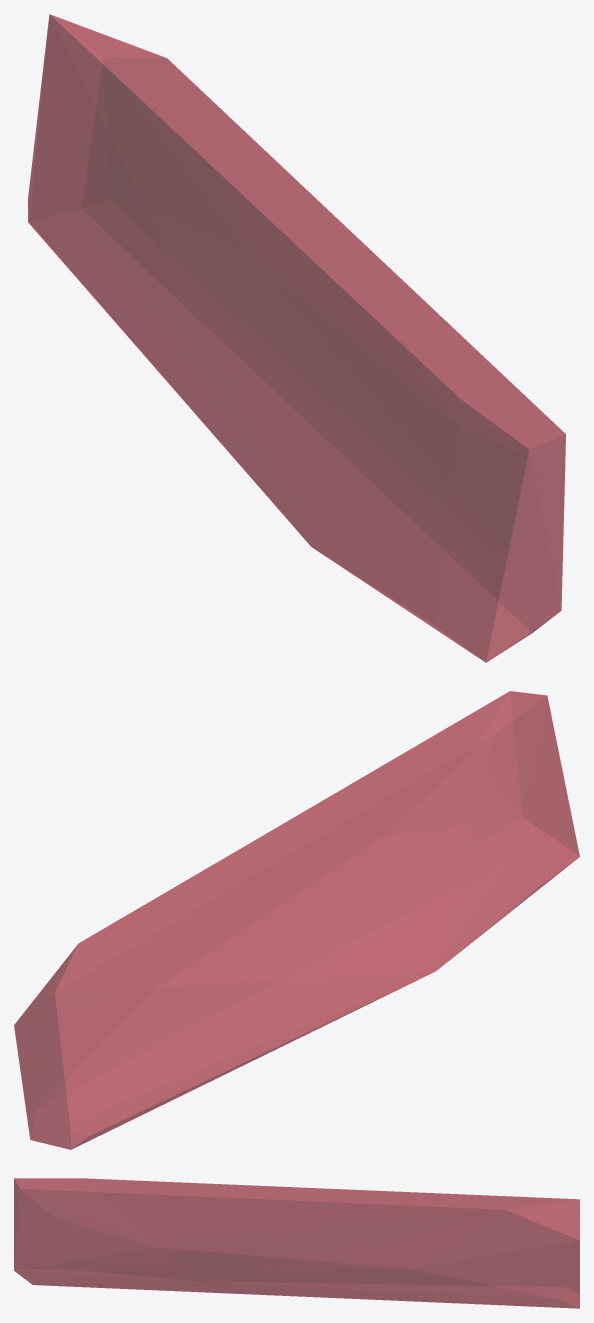
The picture shows the model from 3 angles, top to bottom: view 1: azimuth 30°, elevation 25°; view 2: azimuth 150°, elevation 25°; view 3: azimuth 270°, elevation 25°; orthographic projection. The views are drawn at different scales.
Visible parts, largest first — view 1: Shape_IndexedFaceSet.062_Shape_IndexedFaceSet.3558; view 2: Shape_IndexedFaceSet.062_Shape_IndexedFaceSet.3558; view 3: Shape_IndexedFaceSet.062_Shape_IndexedFaceSet.3558.
Part boxes in pixels (x1,y1,x2,y2): Shape_IndexedFaceSet.062_Shape_IndexedFaceSet.3558: [28, 14, 565, 662]; Shape_IndexedFaceSet.062_Shape_IndexedFaceSet.3558: [14, 691, 579, 1149]; Shape_IndexedFaceSet.062_Shape_IndexedFaceSet.3558: [14, 1178, 579, 1308].
Bounding box in the file's own units: 0.0936 × 0.1087 × 0.5008.
